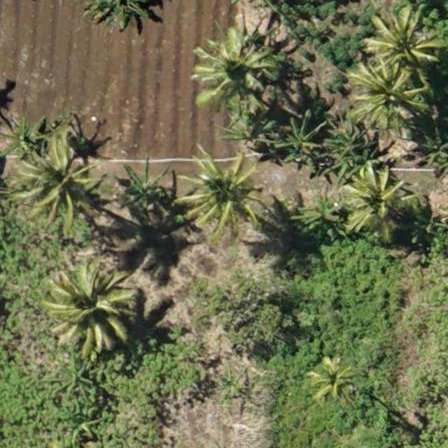palm_tree: (193, 20, 275, 107), (337, 163, 416, 247), (183, 150, 261, 233), (48, 261, 124, 342), (348, 52, 420, 129), (18, 144, 90, 220), (372, 4, 439, 75), (304, 347, 357, 404)
